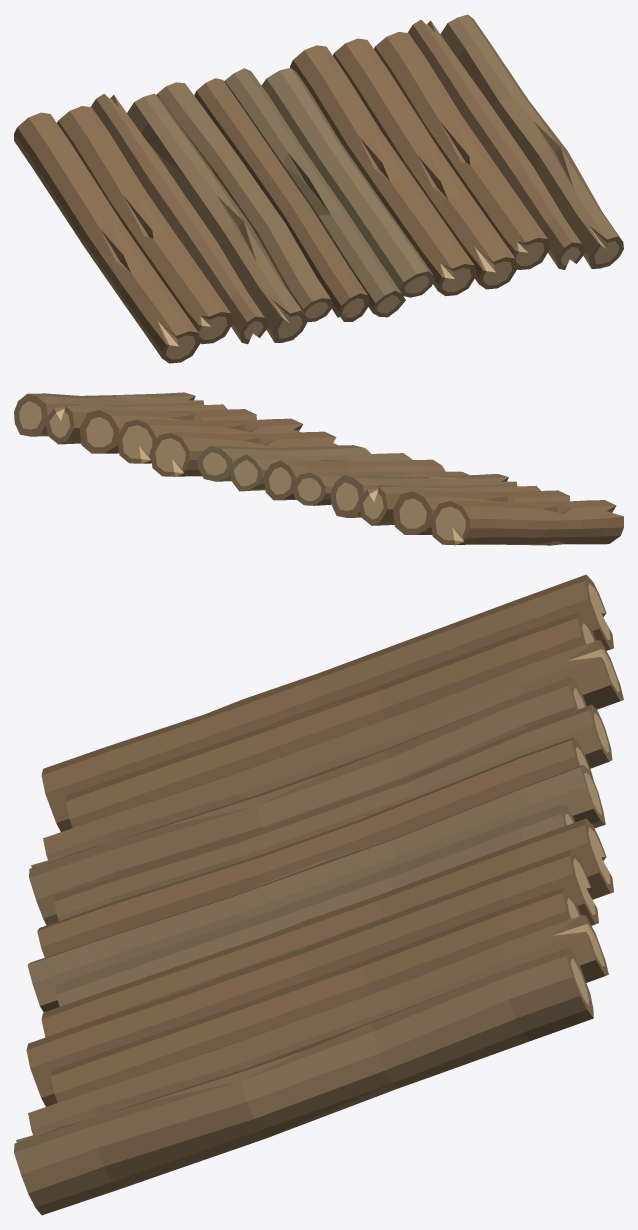
File: rpgpp_ag_gate_balcony_02_roof_01.fbx
3 views of the same model, one above another, from view 1: azimuth 30°, elevation 25°; view 2: azimuth 150°, elevation 25°; view 3: azimuth 270°, elevation 25° (orthographic). The views are drawn at different scales.
Parts seen in each view (by area): view 1: rpgpp_ag_gate_balcony_02_roof_01; view 2: rpgpp_ag_gate_balcony_02_roof_01; view 3: rpgpp_ag_gate_balcony_02_roof_01.
Part boxes in pixels (x1,y1,x2,y2): rpgpp_ag_gate_balcony_02_roof_01: [14, 14, 623, 363]; rpgpp_ag_gate_balcony_02_roof_01: [14, 392, 623, 545]; rpgpp_ag_gate_balcony_02_roof_01: [14, 574, 623, 1215].
Size of the model in its own units: 5.02 by 1.54 by 3.17.
